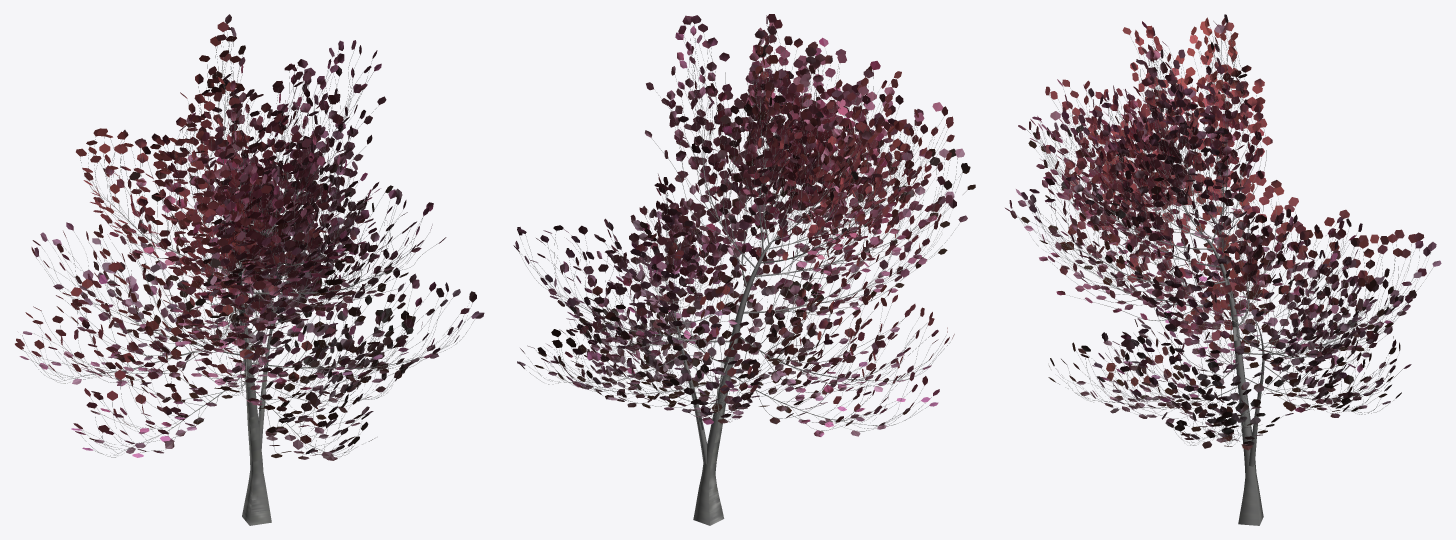
Rendered from PinkTree.fbx.
3 renders of one model, left to right at view 1: azimuth 30°, elevation 25°; view 2: azimuth 150°, elevation 25°; view 3: azimuth 270°, elevation 25°, orthographic. The views are drawn at different scales.
Visible parts, largest first — view 1: tree.001; view 2: tree.001; view 3: tree.001.
Part boxes in pixels (left/top/right/bottom): tree.001: left=15, top=14, right=484, bottom=525; tree.001: left=513, top=14, right=975, bottom=525; tree.001: left=1005, top=14, right=1441, bottom=525.
Bounding box in the file's own units: 715 × 885 × 719.
